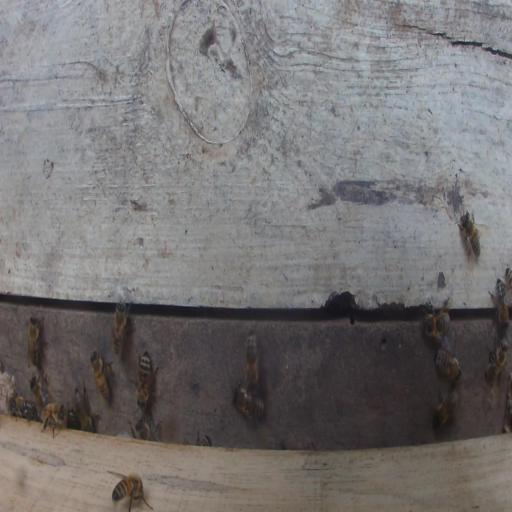nonpollenbee: (112, 472, 143, 512), (90, 350, 110, 403), (233, 386, 265, 419), (460, 211, 482, 258), (434, 389, 460, 426), (73, 388, 94, 432), (486, 338, 509, 378), (41, 404, 68, 437), (244, 331, 259, 390), (433, 349, 462, 378), (136, 351, 151, 406), (113, 301, 127, 358), (495, 279, 509, 331), (29, 375, 46, 416), (135, 416, 160, 443), (422, 313, 450, 337), (27, 316, 40, 365), (9, 396, 35, 419), (506, 267, 511, 301)
